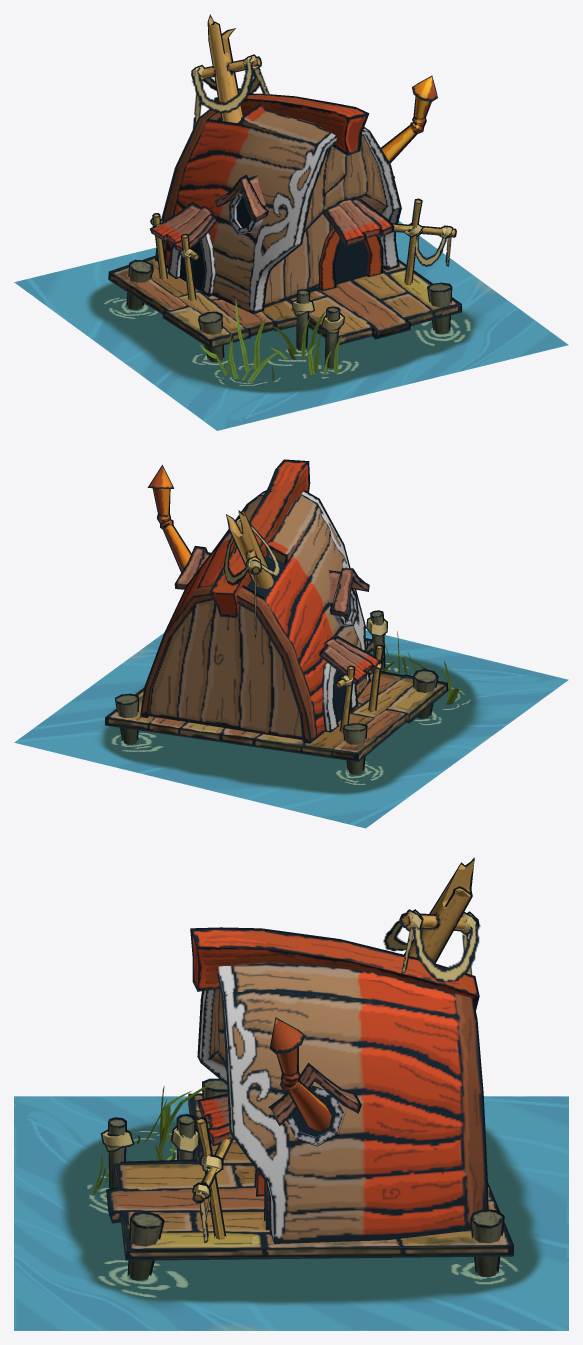
File: pirate_building.glb
3 renders of one model, top to bottom at view 1: azimuth 30°, elevation 25°; view 2: azimuth 150°, elevation 25°; view 3: azimuth 270°, elevation 25°, orthographic. The views are drawn at different scales.
Bounding box in the file's own units: 11.59 × 8.89 × 11.59.
Materials: 4 (3 with a texture image).
